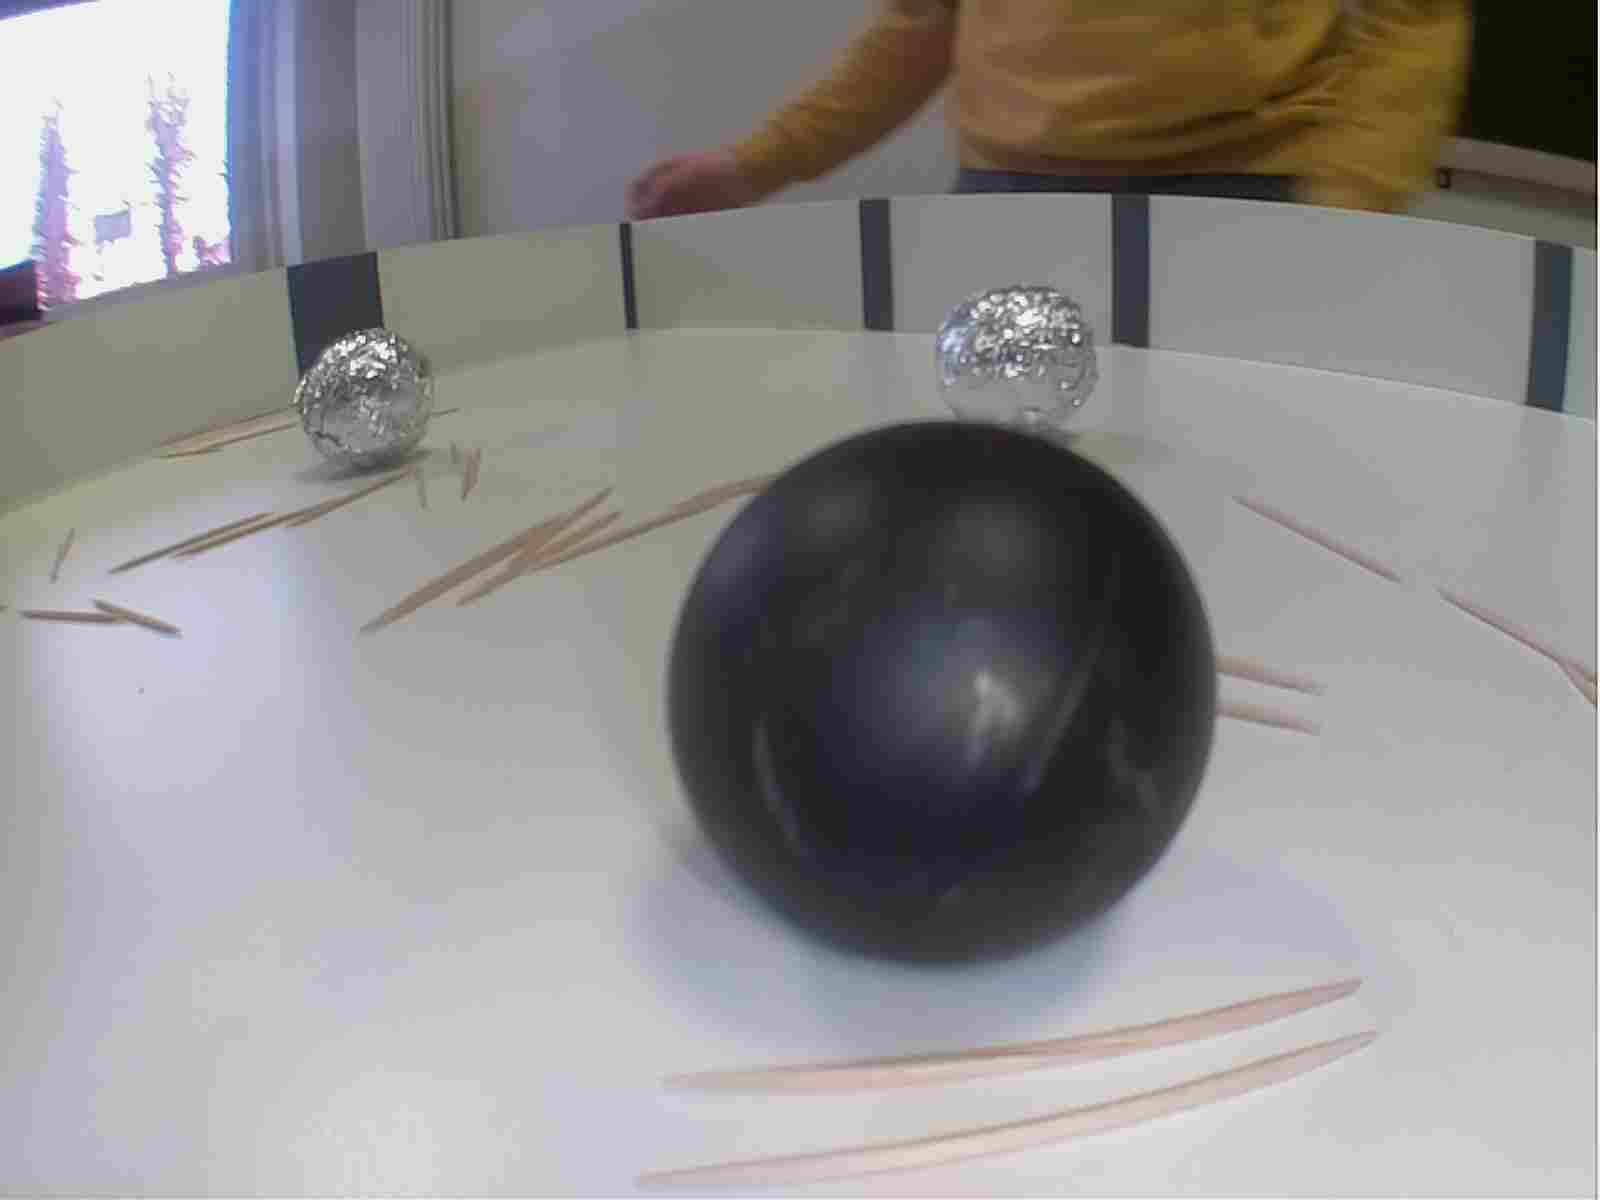bianca: (934, 282, 1114, 450), (297, 328, 437, 482)
nera: (669, 427, 1228, 972)
